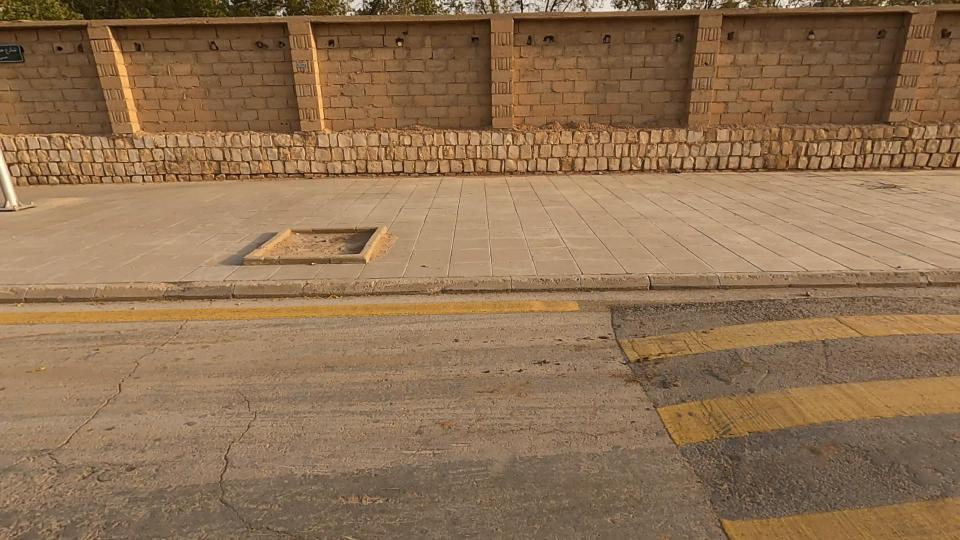UNKEPT_FACADE: (190, 175, 443, 310)
